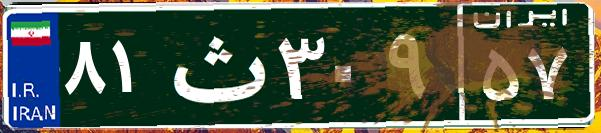0: (330, 28, 385, 110)
1: (110, 28, 158, 105)
3: (273, 28, 330, 110)
5: (475, 38, 525, 113)
7: (525, 38, 570, 115)
8: (57, 26, 110, 107)
9: (385, 28, 445, 110)
ث: (158, 15, 273, 115)
